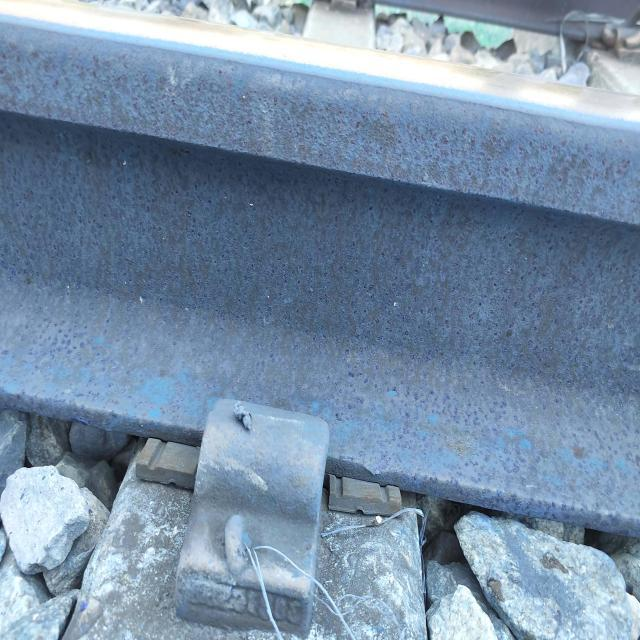Missing Fastener: (176, 399, 329, 637)
